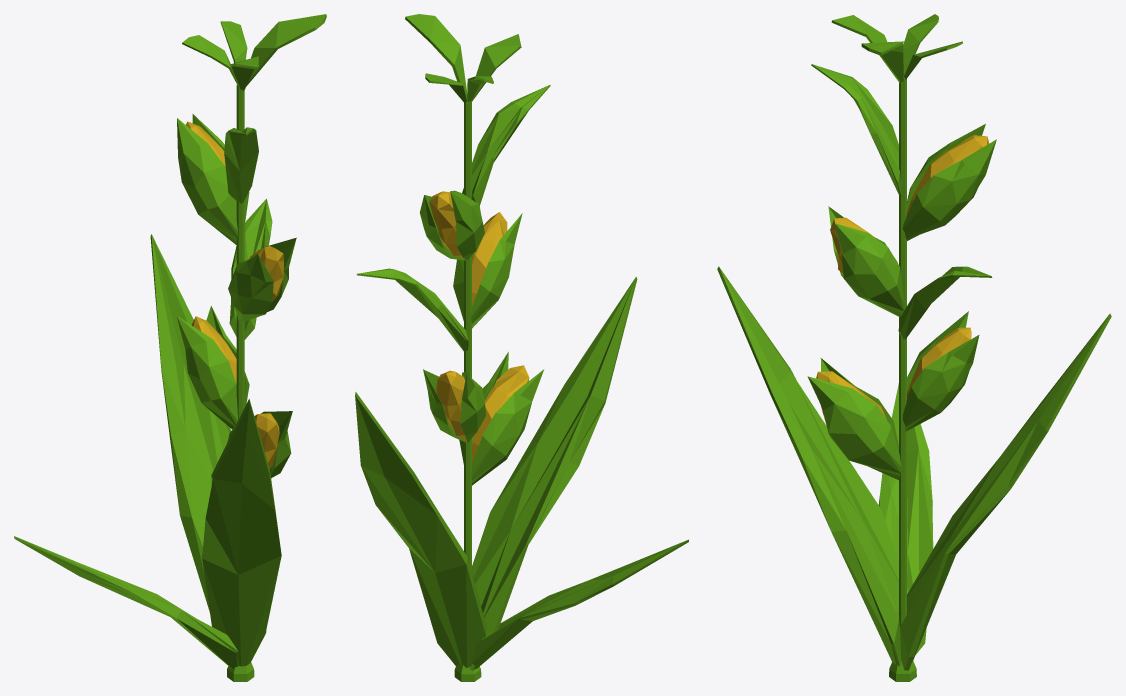
The model's file is 009 Corn_Plant_1.FBX.
3 renders of one model, left to right at view 1: azimuth 30°, elevation 25°; view 2: azimuth 150°, elevation 25°; view 3: azimuth 270°, elevation 25°, orthographic. The views are drawn at different scales.
Visible parts, largest first — view 1: corn4179; view 2: corn4179; view 3: corn4179.
Part boxes in pixels (bbox=[...]): corn4179: bbox=[14, 14, 326, 681]; corn4179: bbox=[355, 14, 688, 681]; corn4179: bbox=[717, 14, 1111, 681].
Size of the model in its own units: 41.09 by 85.06 by 45.85.
